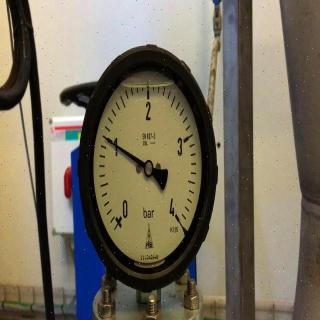gauge: (78, 36, 219, 308), (166, 196, 190, 236), (106, 198, 130, 236), (143, 160, 153, 177), (101, 133, 111, 143)
